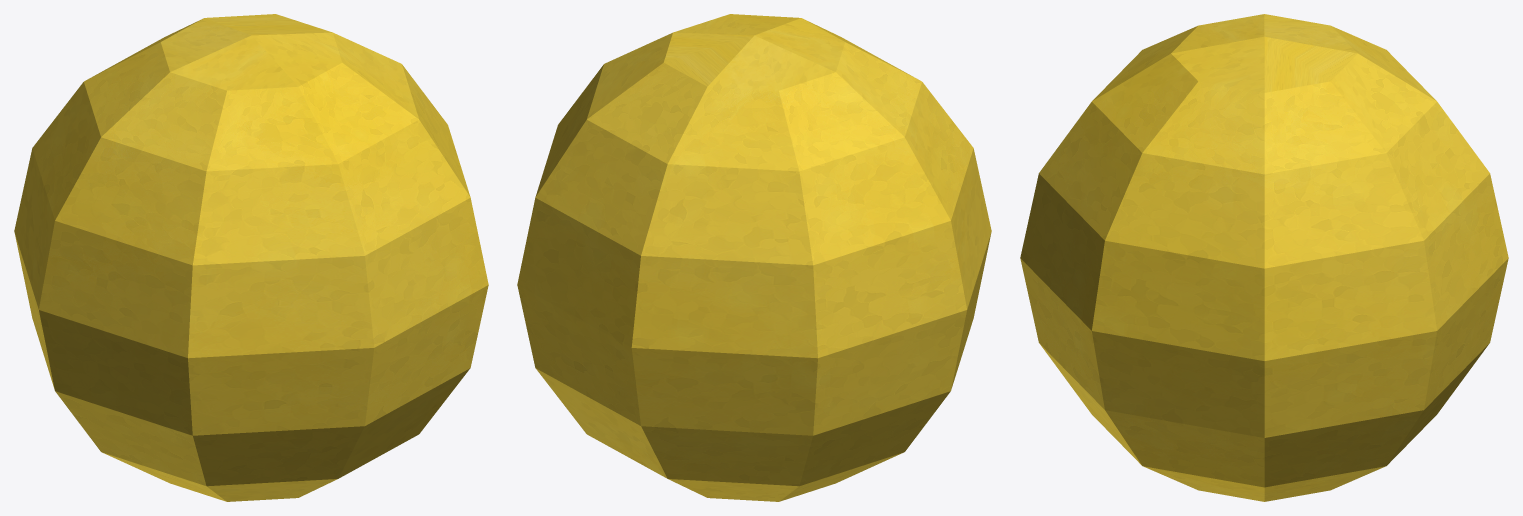
File: sphere-music-gem.glb
3 views of the same model, side by side, from view 1: azimuth 30°, elevation 25°; view 2: azimuth 150°, elevation 25°; view 3: azimuth 270°, elevation 25° (orthographic).
Visible parts, largest first — view 1: sphere-music-gem; view 2: sphere-music-gem; view 3: sphere-music-gem.
Part boxes in pixels (bbox=[...]): sphere-music-gem: bbox=[14, 14, 488, 501]; sphere-music-gem: bbox=[517, 14, 991, 501]; sphere-music-gem: bbox=[1020, 14, 1508, 501].
Size of the model in its own units: 0.8182 by 0.8182 by 0.8182.
1 material, 1 textured.
